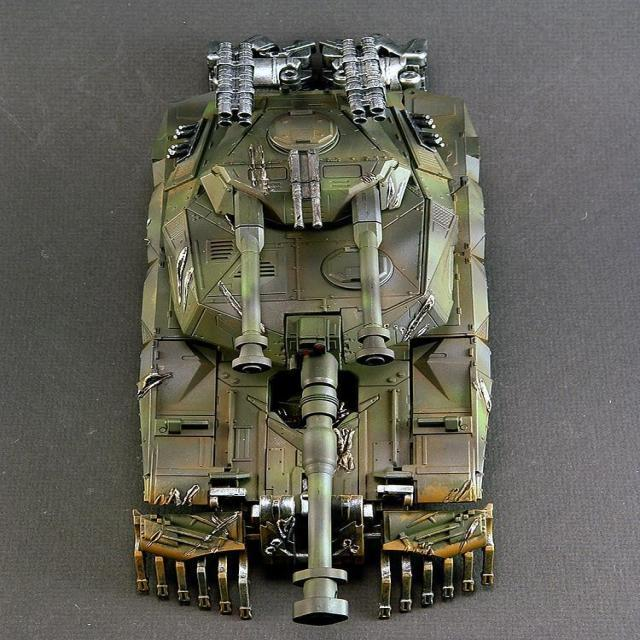MIL_MBT: (127, 29, 501, 611)
